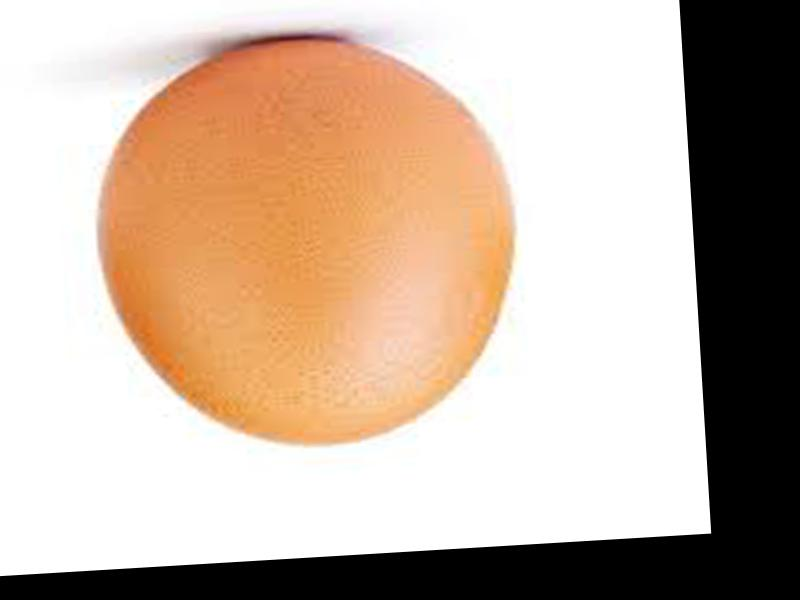Eggs: (89, 29, 524, 451)
